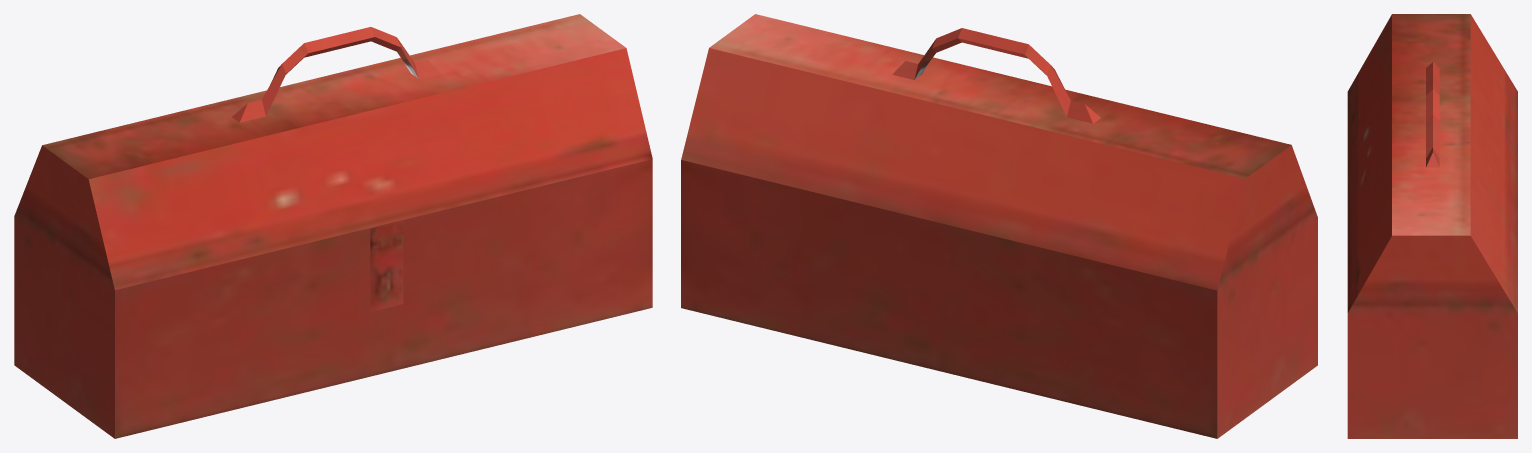
Rendered from ToolBoxClosed.obj.
3 renders of one model, left to right at view 1: azimuth 30°, elevation 25°; view 2: azimuth 150°, elevation 25°; view 3: azimuth 270°, elevation 25°, orthographic. The views are drawn at different scales.
Visible parts, largest first — view 1: ToolBox; view 2: ToolBox; view 3: ToolBox.
Part boxes in pixels (x1,y1,x2,y2): ToolBox: (14,14,652,438); ToolBox: (681,14,1317,438); ToolBox: (1347,14,1517,438).
Size of the model in its own units: 1.95 by 1.04 by 0.6385.
Materials: 1 (1 with a texture image).
